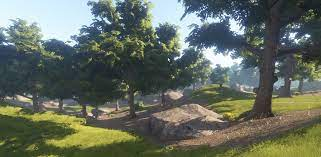tree: (249, 2, 283, 120), (111, 23, 141, 121), (30, 63, 48, 111), (281, 46, 294, 102), (189, 50, 204, 96), (106, 72, 122, 115), (213, 68, 231, 95), (80, 68, 89, 116), (57, 63, 67, 106), (301, 55, 309, 96)
